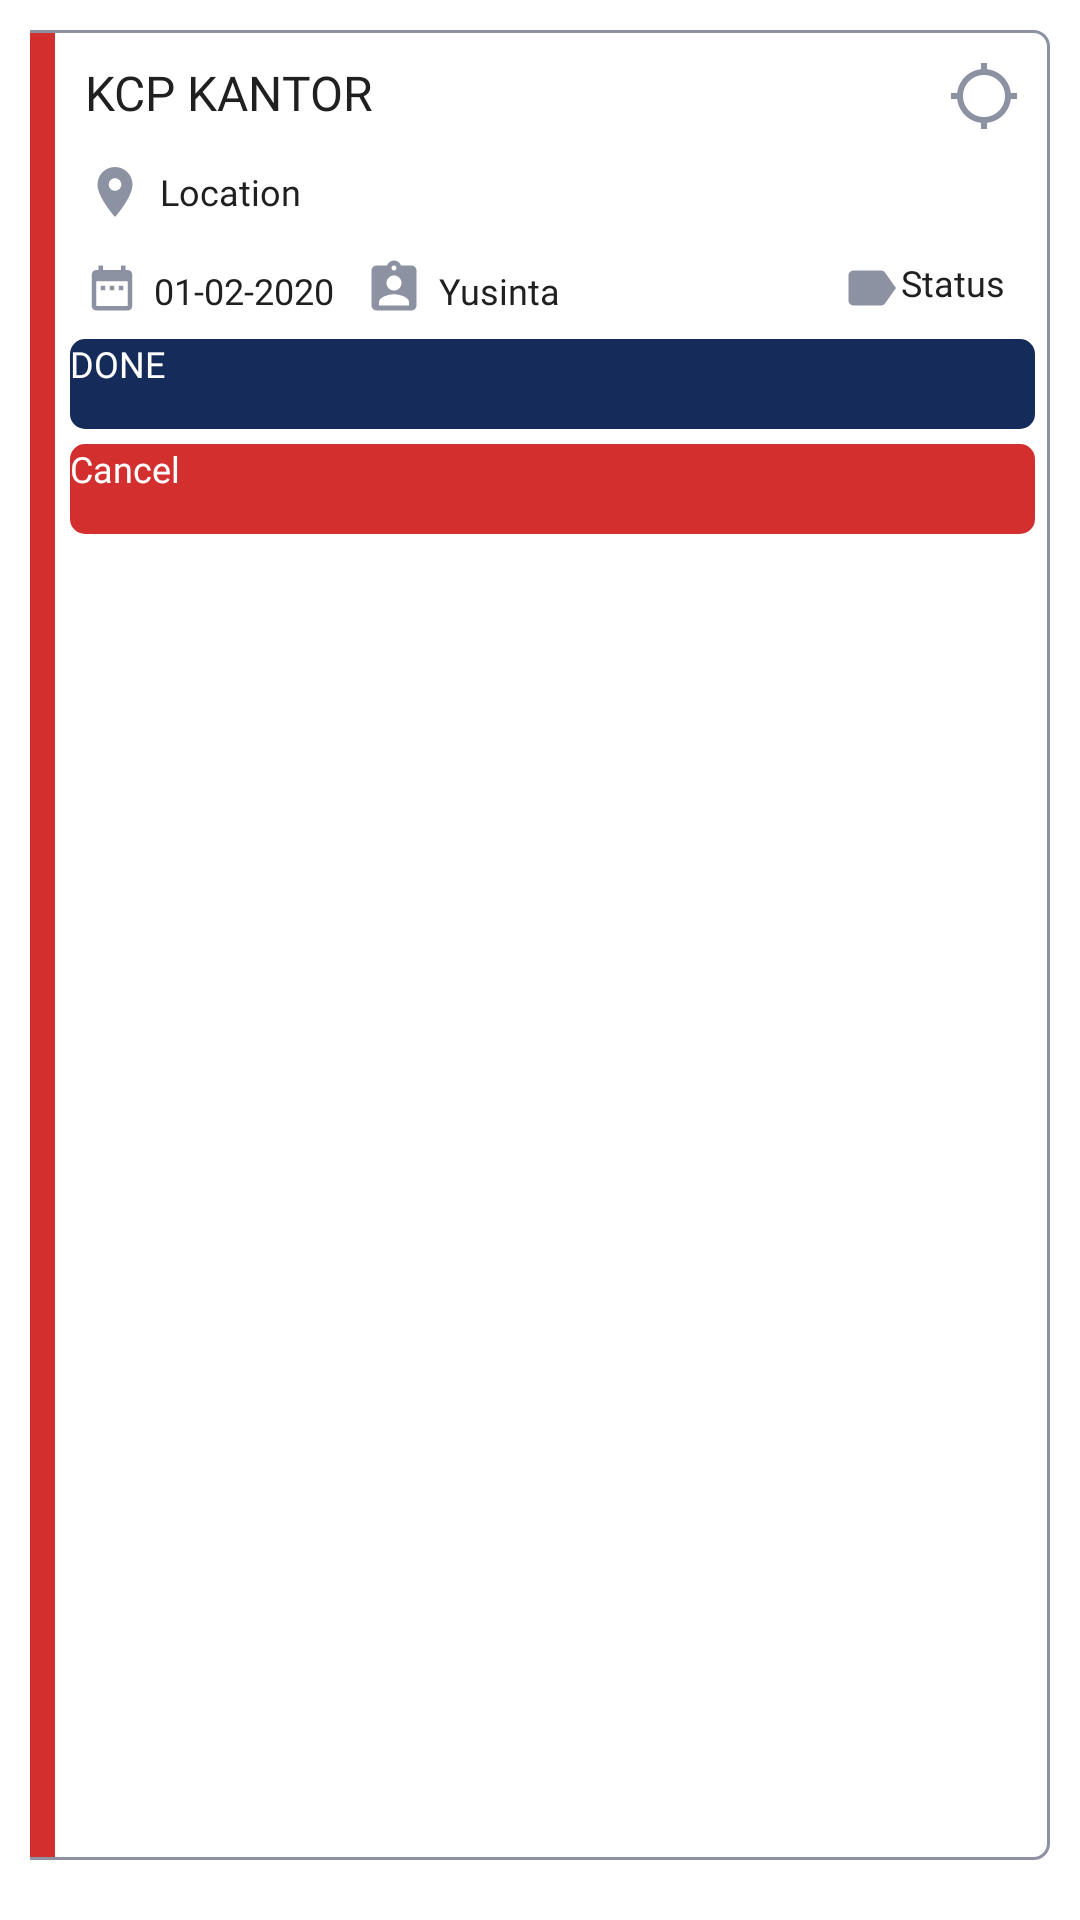

Icons on this 1080×1920 Android screen, each with the point to tap as [x,y]:
assignment ind: [394,285]
date range: [112,288]
label: [872,288]
